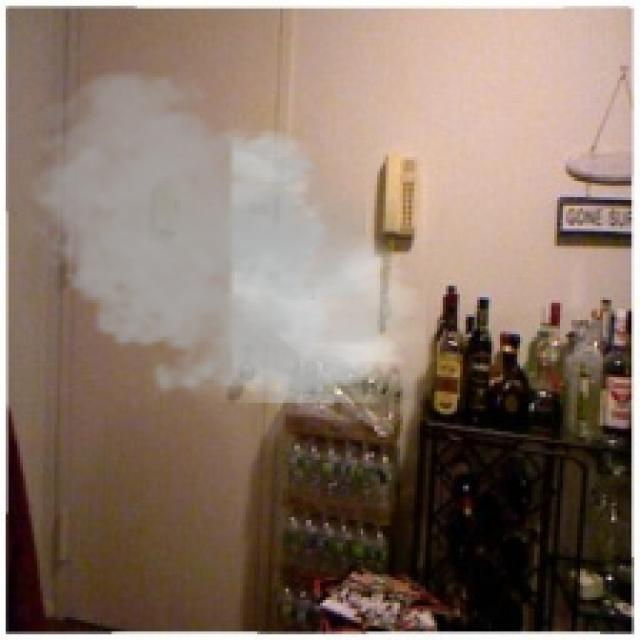Smoke: (14, 62, 426, 418)
